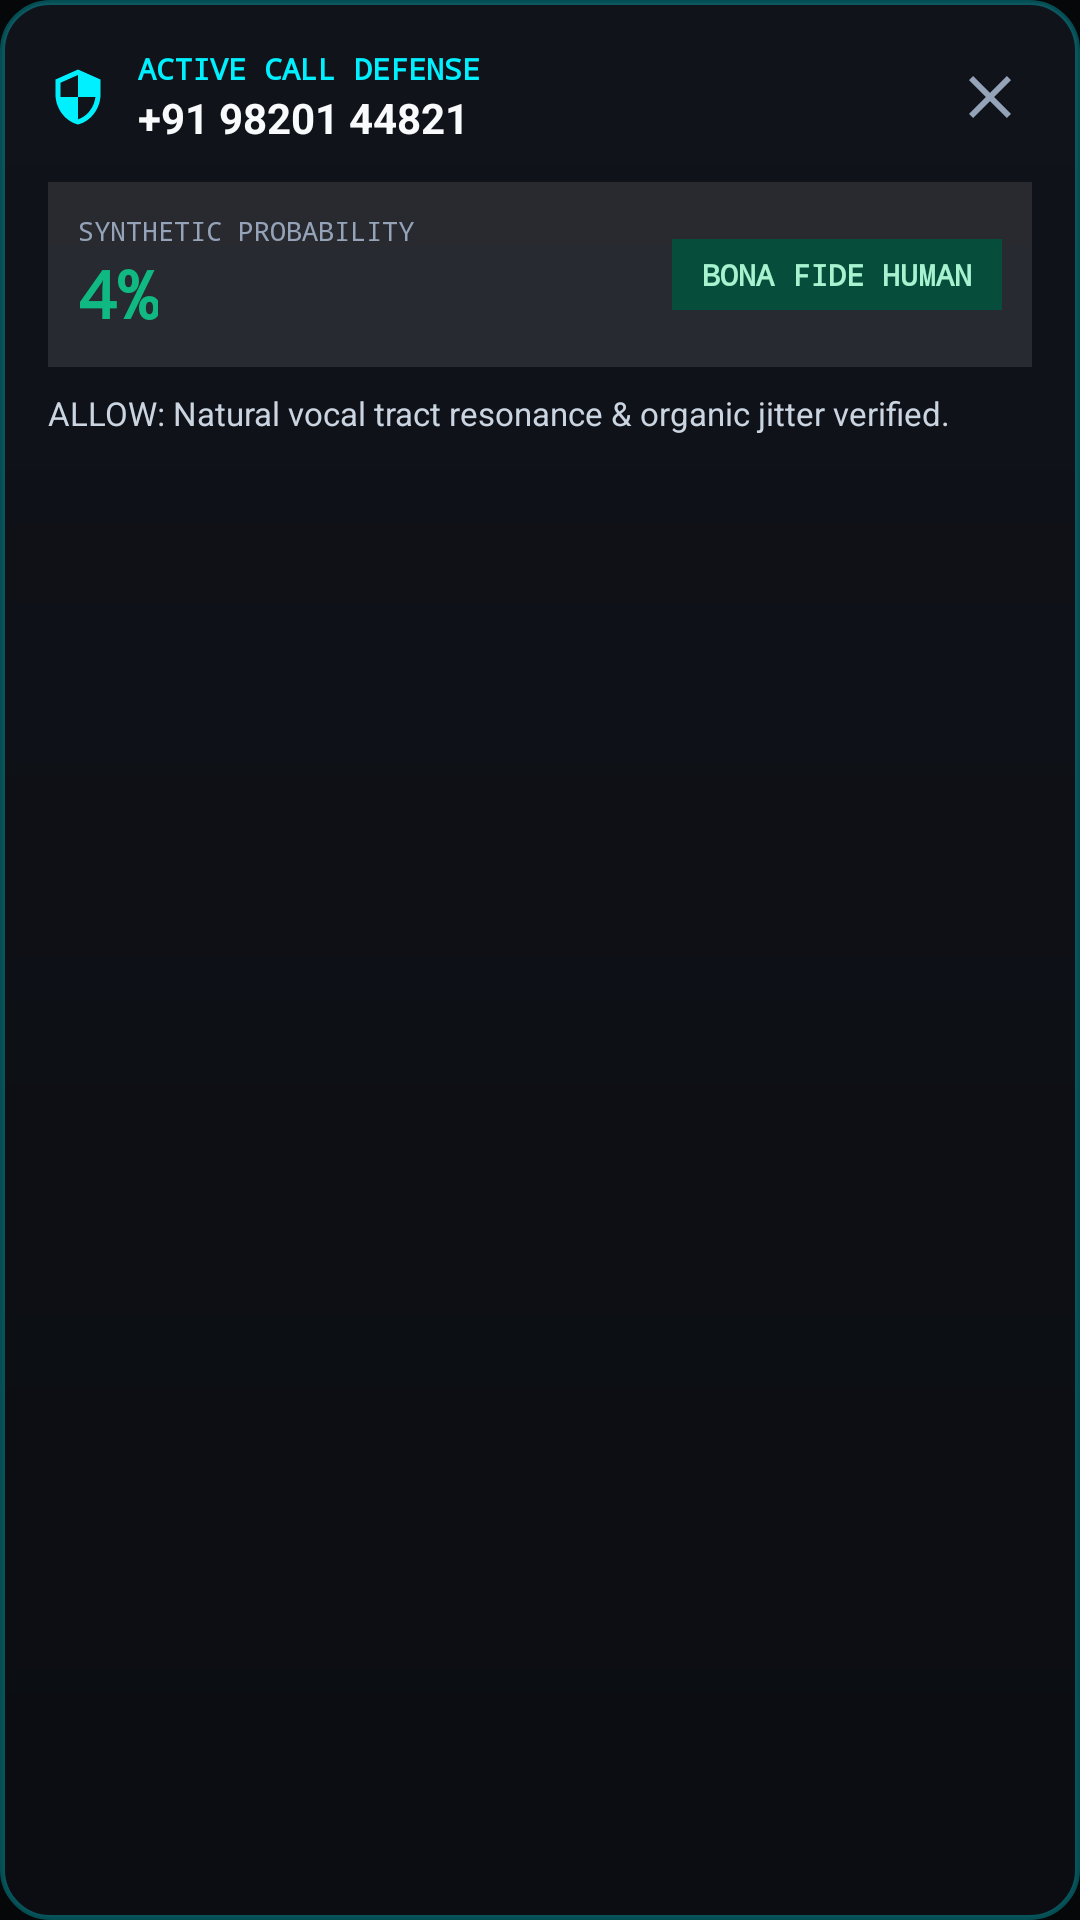

Icons on this 1080w x 1920h Android screen, each with the point to tap as point (x, y):
close: point (990, 97)
cyphex shield: point (78, 97)
